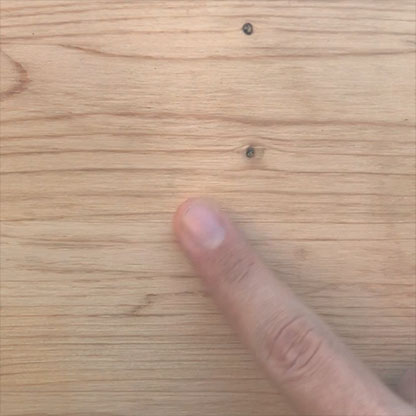fingertip: (162, 191, 244, 261)
